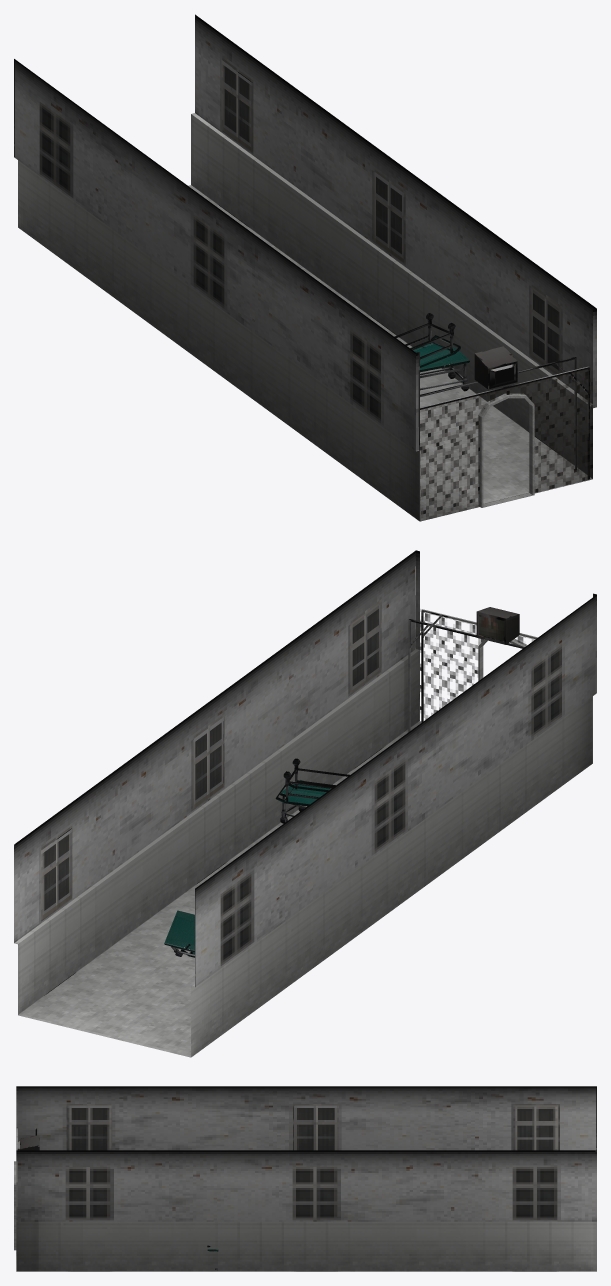
Rendered from strecher-mesh.glb.
The picture shows the model from 3 angles, top to bottom: view 1: azimuth 30°, elevation 25°; view 2: azimuth 150°, elevation 25°; view 3: azimuth 270°, elevation 25°; orthographic projection. The views are drawn at different scales.
Parts seen in each view (by area): view 1: corridor_1.001; view 2: corridor_1.001; view 3: corridor_1.001.
Boxes of the visible parts, x1,y1,x2,y2 form: corridor_1.001: (14, 14, 596, 521); corridor_1.001: (14, 550, 596, 1057); corridor_1.001: (14, 1086, 596, 1271).
Size of the model in its own units: 5.18 by 4.64 by 20.
2 materials, 2 textured.
